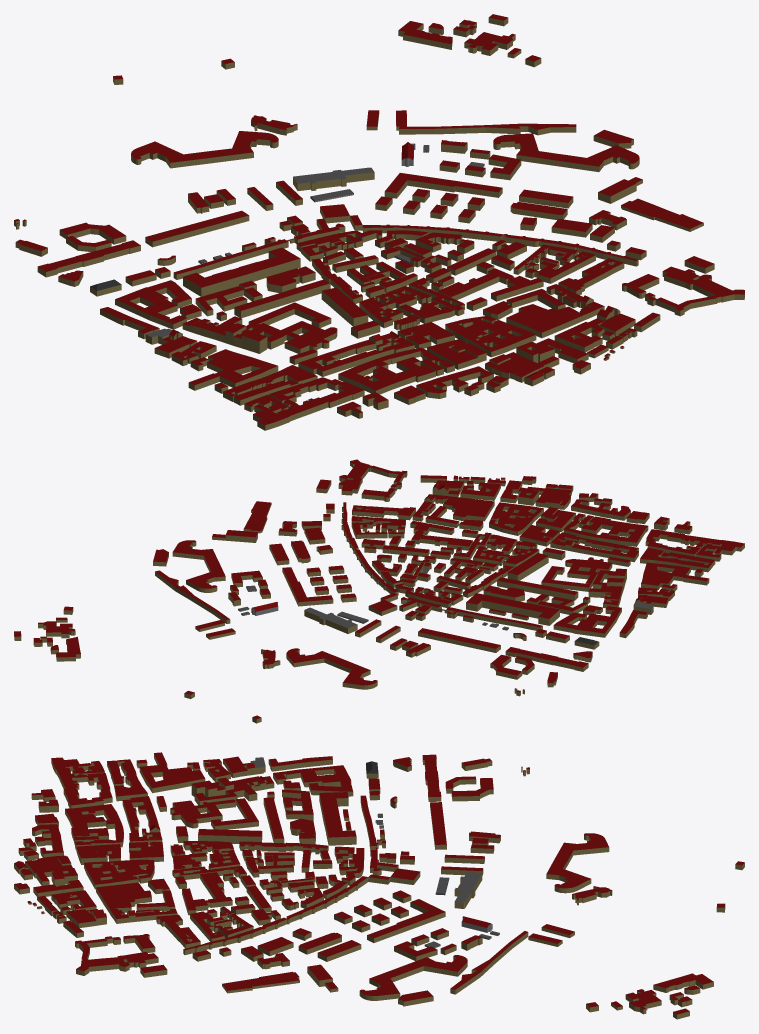
Rendered from Ingolstadt_Tile_6_8.obj.
The picture shows the model from 3 angles, top to bottom: view 1: azimuth 30°, elevation 25°; view 2: azimuth 150°, elevation 25°; view 3: azimuth 270°, elevation 25°; orthographic projection. The views are drawn at different scales.
Parts seen in each view (by area): view 1: Building Berufsschule 1 Ingolstadt, Building Kavalier Heydeck, Building Kavalier Elbracht, Building548, object 15, Building555, Building Finanzamt, Building Soziales Rathaus, Building541, Building3, Building A, Building557 (+7 smaller); view 2: Building Berufsschule 1 Ingolstadt, Building Kavalier Elbracht, Building Kavalier Heydeck, Building Soziales Rathaus, Building Finanzamt, Building555, Building548, Building541, Building3, Building488, object 15, Building556 (+4 smaller); view 3: Building Berufsschule 1 Ingolstadt, Building Kavalier Heydeck, Building Kavalier Elbracht, object 15, Building A, Building548, Building556, Building557, Building3, Building488, Building546, Building IN Tower (+12 smaller).
Part boxes in pixels (x1=…): Building Berufsschule 1 Ingolstadt: x1=183, y1=247, x2=315, y2=296; Building Kavalier Heydeck: x1=493, y1=133, x2=639, y2=171; Building Kavalier Elbracht: x1=131, y1=131, x2=278, y2=168; Building548: x1=399, y1=123, x2=576, y2=135; object 15: x1=510, y1=189, x2=573, y2=219; Building555: x1=37, y1=240, x2=140, y2=277; Building Finanzamt: x1=145, y1=210, x2=249, y2=247; Building Soziales Rathaus: x1=234, y1=279, x2=330, y2=318; Building541: x1=293, y1=167, x2=374, y2=190; Building3: x1=115, y1=288, x2=177, y2=320; Building A: x1=621, y1=198, x2=703, y2=231; Building557: x1=407, y1=174, x2=502, y2=197; Building Berufsschule 1 Ingolstadt: x1=466, y1=585, x2=559, y2=625; Building Kavalier Elbracht: x1=286, y1=648, x2=377, y2=689; Building Kavalier Heydeck: x1=172, y1=540, x2=225, y2=592; Building Soziales Rathaus: x1=497, y1=577, x2=578, y2=600; Building Finanzamt: x1=418, y1=628, x2=500, y2=652; Building555: x1=505, y1=647, x2=588, y2=671; Building548: x1=155, y1=570, x2=230, y2=623; Building541: x1=304, y1=607, x2=357, y2=633; Building3: x1=577, y1=613, x2=616, y2=637; Building488: x1=453, y1=498, x2=494, y2=521; object 15: x1=269, y1=540, x2=310, y2=565; Building556: x1=507, y1=553, x2=548, y2=580; Building Berufsschule 1 Ingolstadt: x1=290, y1=792, x2=356, y2=845; Building Kavalier Heydeck: x1=359, y1=955, x2=467, y2=1000; Building Kavalier Elbracht: x1=546, y1=833, x2=609, y2=893; object 15: x1=298, y1=932, x2=361, y2=961; Building A: x1=222, y1=971, x2=299, y2=993; Building548: x1=450, y1=931, x2=528, y2=994; Building556: x1=198, y1=829, x2=262, y2=843; Building557: x1=367, y1=911, x2=437, y2=942; Building3: x1=299, y1=765, x2=350, y2=787; Building488: x1=96, y1=882, x2=151, y2=903; Building546: x1=211, y1=798, x2=258, y2=829; Building IN Tower: x1=653, y1=973, x2=713, y2=992.
Bounding box in the file's own units: 863 × 17 × 1016.
